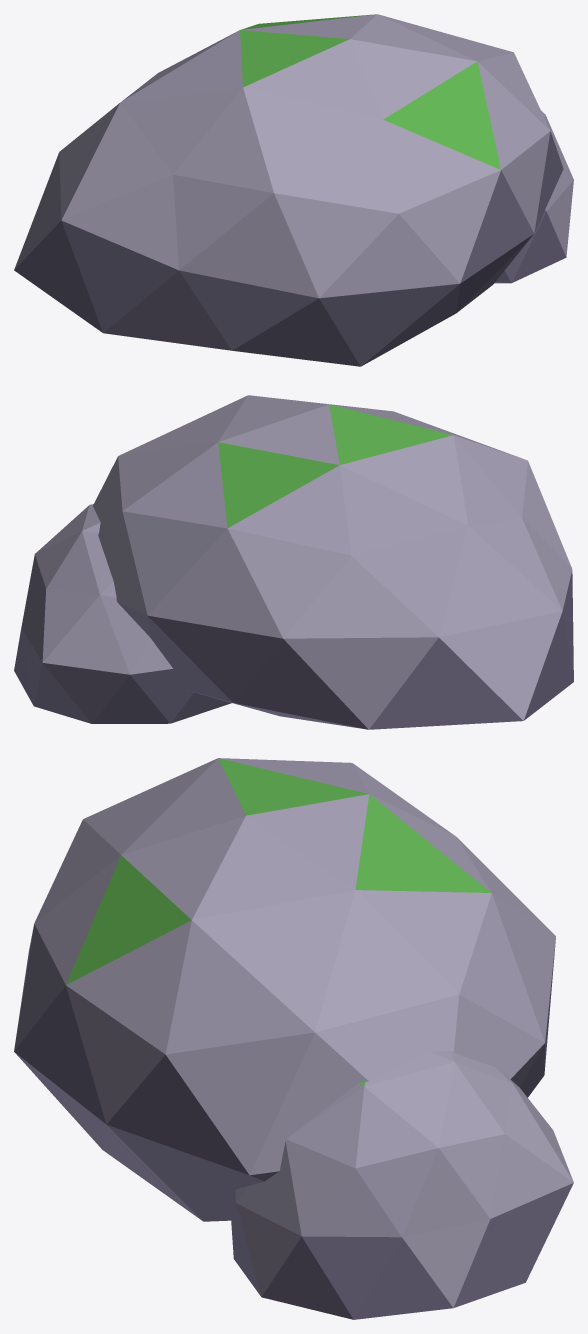
The model's file is Rock1.fbx.
The picture shows the model from 3 angles, top to bottom: view 1: azimuth 30°, elevation 25°; view 2: azimuth 150°, elevation 25°; view 3: azimuth 270°, elevation 25°; orthographic projection. The views are drawn at different scales.
Parts seen in each view (by area): view 1: Rock1; view 2: Rock1; view 3: Rock1.
Part boxes in pixels (box(x1,y1,x2,y2)): Rock1: box(14, 14, 573, 366); Rock1: box(14, 395, 573, 729); Rock1: box(14, 758, 573, 1319).
Size of the model in its own units: 1.46 by 0.7886 by 1.09.
1 material, 1 textured.
